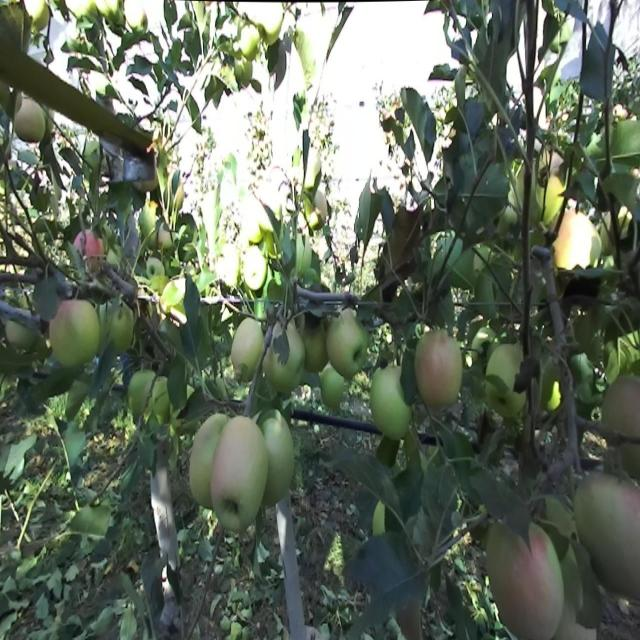apple: (484, 525, 563, 638), (212, 419, 268, 532), (416, 326, 465, 416), (52, 298, 102, 373), (256, 419, 296, 510), (372, 362, 412, 443), (556, 205, 599, 279), (60, 298, 102, 370), (48, 298, 88, 372), (388, 205, 424, 283), (328, 312, 368, 380), (264, 335, 303, 402), (16, 70, 49, 149), (0, 6, 26, 91), (232, 319, 265, 384), (16, 93, 48, 148), (108, 298, 137, 357), (320, 362, 350, 414), (304, 319, 328, 380), (544, 177, 566, 233), (220, 243, 244, 293), (44, 70, 70, 114), (244, 257, 269, 302), (88, 99, 115, 140), (8, 312, 34, 354), (156, 276, 178, 320), (84, 227, 107, 268), (540, 376, 563, 416), (376, 433, 400, 471), (24, 6, 52, 36), (260, 13, 284, 48), (0, 77, 19, 119), (304, 198, 323, 235), (240, 28, 260, 62), (248, 212, 265, 249), (236, 56, 253, 91)
